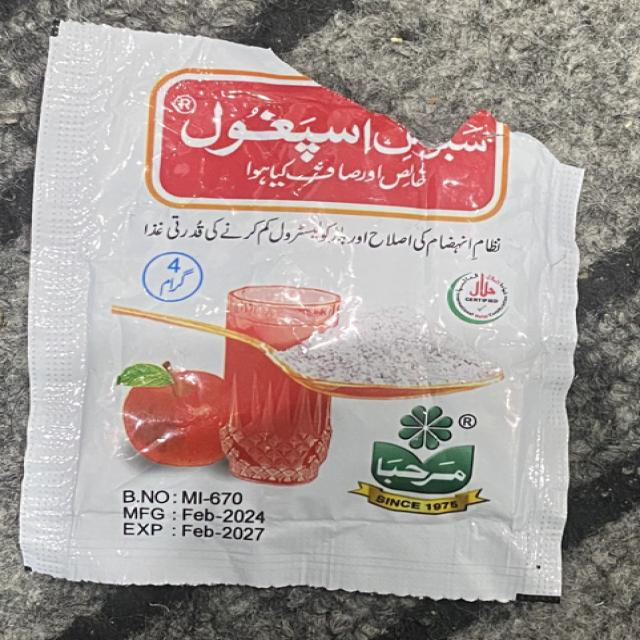electronic: (16, 18, 584, 602)
